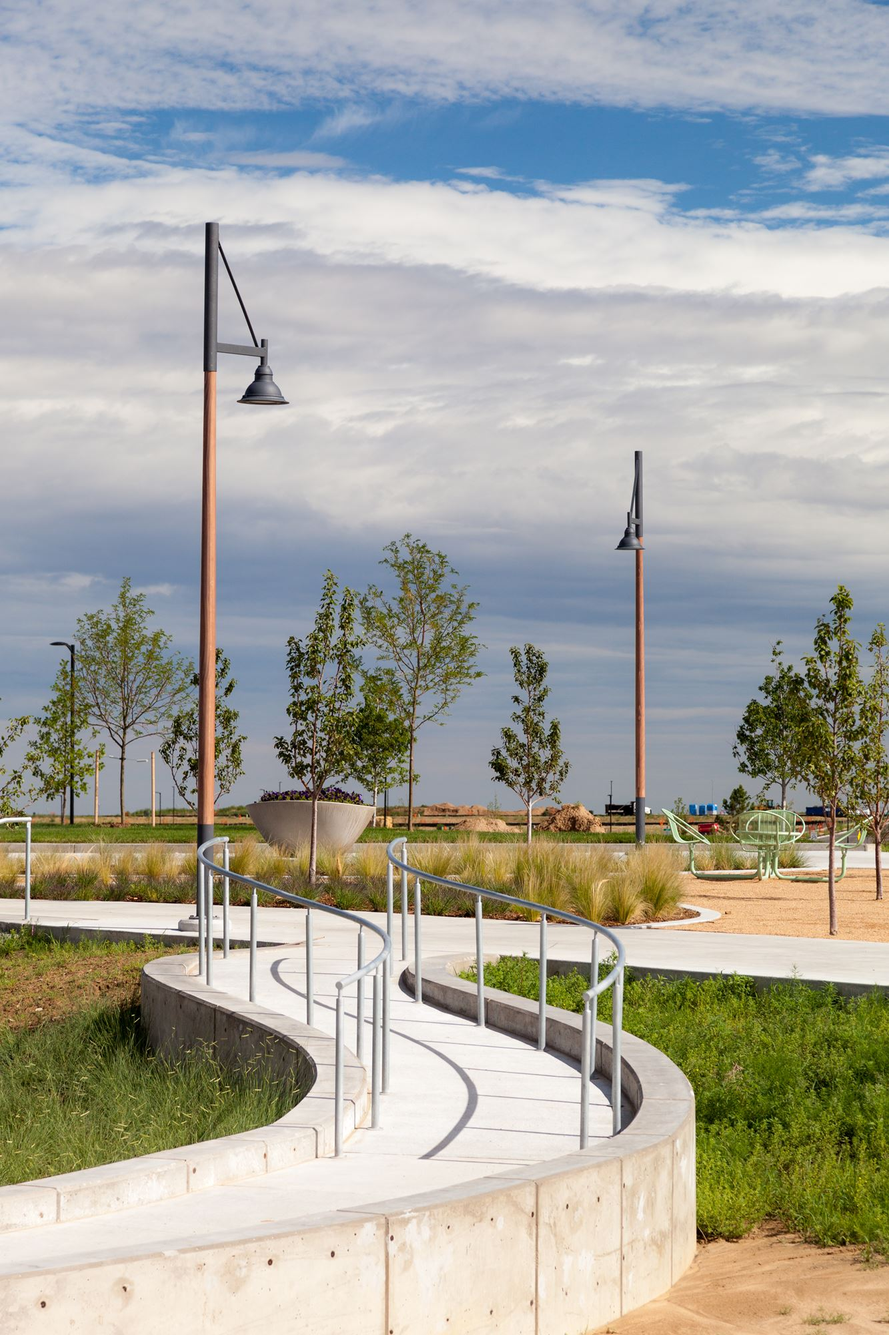light_pole: (183, 200, 238, 955), (619, 445, 651, 856)
